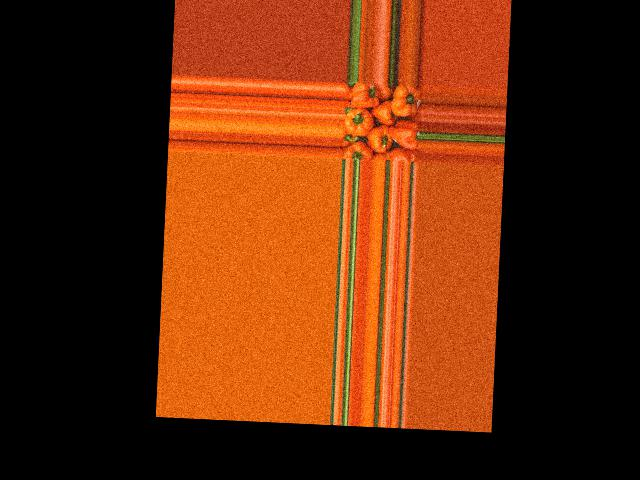bell_pepper: (389, 147, 420, 162)
